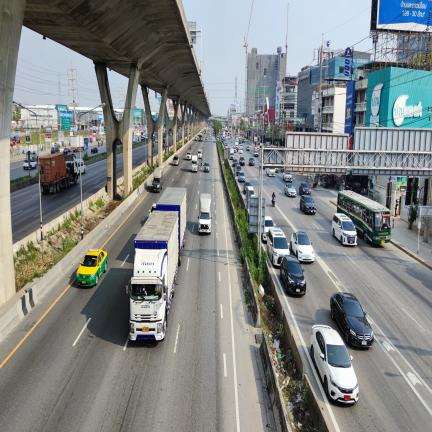bus: (337, 191, 391, 244)
car: (311, 325, 359, 403), (330, 292, 374, 347), (280, 256, 306, 295), (290, 232, 314, 262), (300, 195, 316, 214), (284, 183, 297, 197), (299, 182, 311, 195)
motorbike: (272, 197, 275, 207)
taxi: (76, 249, 108, 286)
truck: (126, 210, 178, 341), (156, 187, 187, 266), (39, 153, 79, 194), (198, 194, 212, 233), (152, 167, 163, 192), (70, 136, 84, 152), (191, 154, 198, 172)
van: (267, 227, 290, 266), (332, 213, 357, 245), (76, 159, 86, 174)
